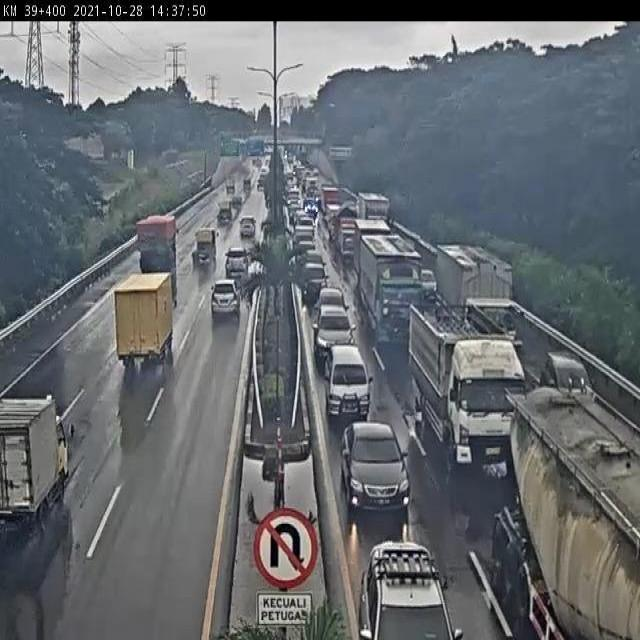truck-l-: (409, 297, 526, 471), (436, 241, 518, 356), (359, 230, 427, 338), (136, 213, 182, 270)
truck-m-: (2, 396, 74, 541), (117, 277, 174, 367)
truck-s-: (190, 228, 215, 269)
